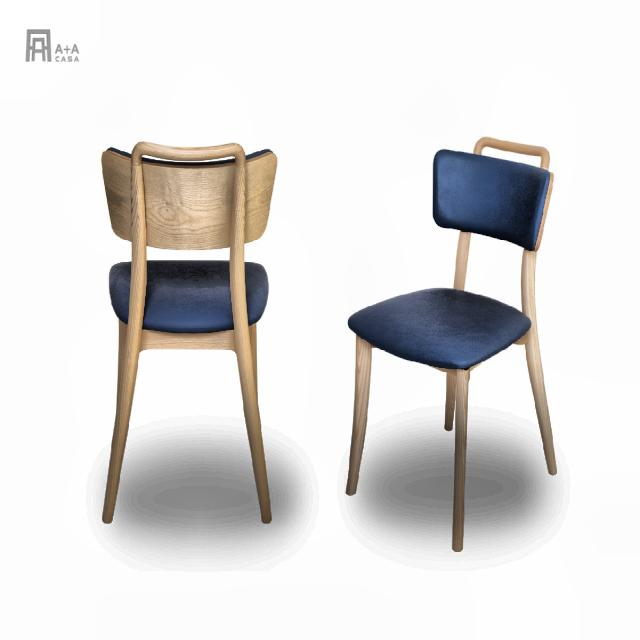cadeira: (340, 132, 562, 553), (88, 134, 280, 529)
